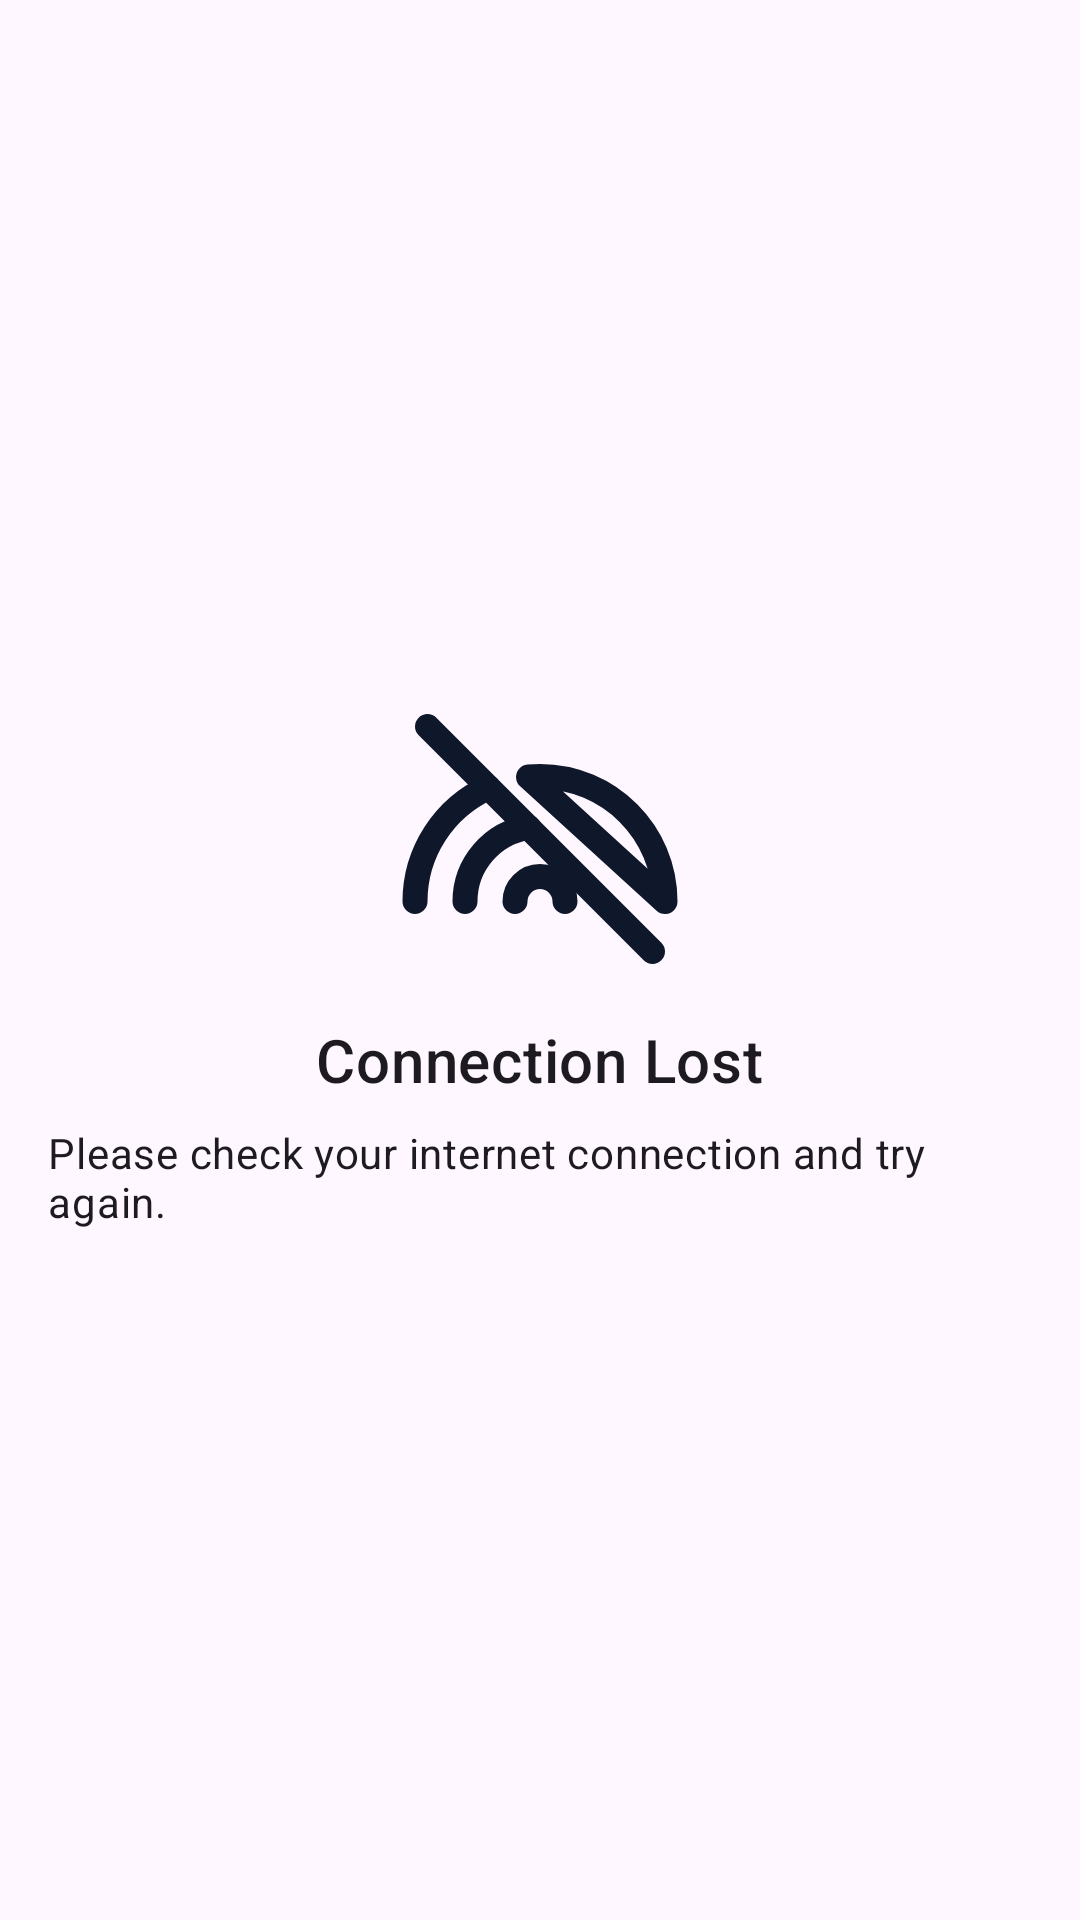

Screen size 1080 x 1920. Icon name, then its box in pixels as Rect(x1, y1, x2, y2):
rainbow off: Rect(402, 714, 678, 964)
